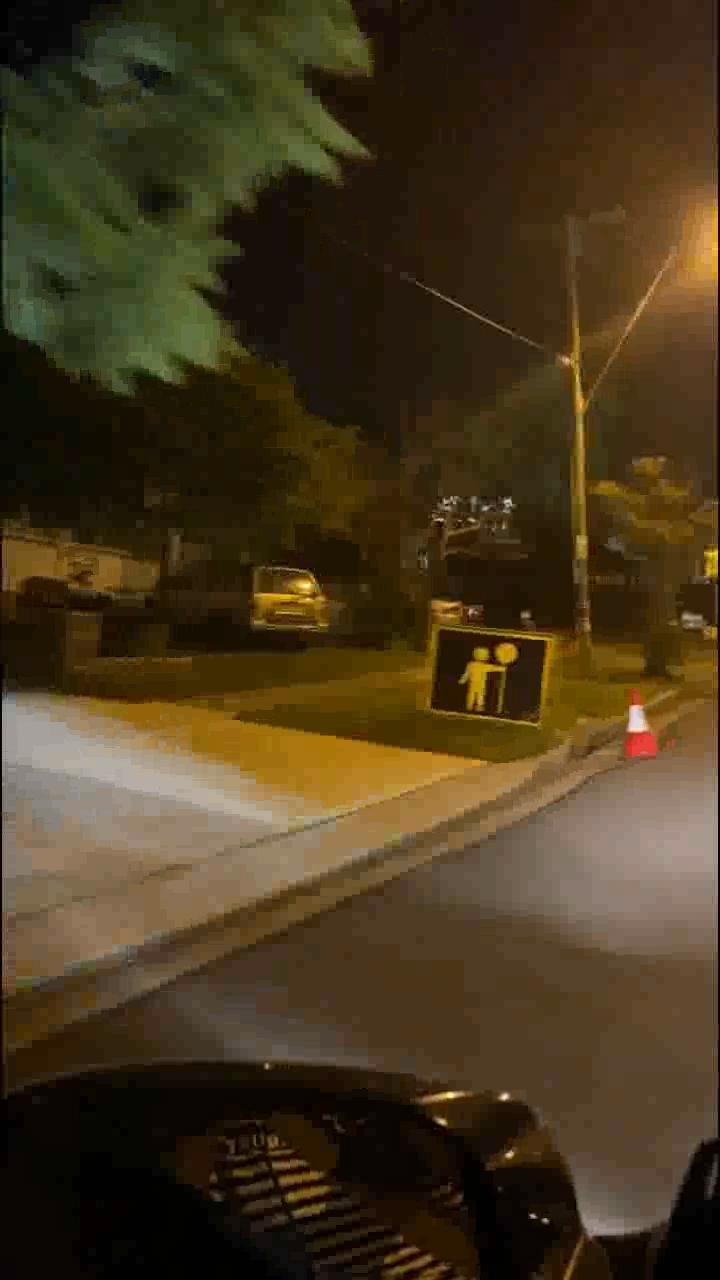prepare to stop board: (423, 614, 543, 728)
road cone: (618, 688, 658, 758)
